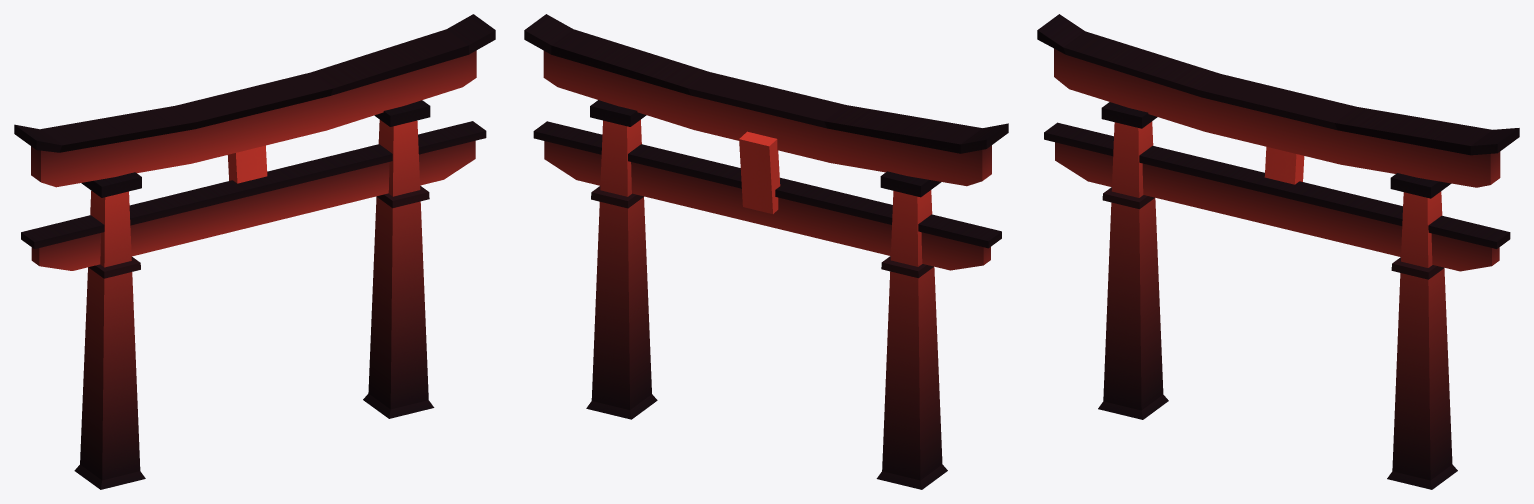
Rendered from Raven_Gate.fbx.
3 renders of one model, left to right at view 1: azimuth 30°, elevation 25°; view 2: azimuth 150°, elevation 25°; view 3: azimuth 330°, elevation 25°, orthographic.
Parts seen in each view (by area): view 1: legs, top, bottom, little; view 2: legs, top, bottom, little; view 3: legs, top, bottom, little.
Part boxes in pixels (<box>): legs: <box>74,100,434,489</box>; top: <box>14,14,495,187</box>; bottom: <box>21,121,486,270</box>; little: <box>227,145,267,183</box>; legs: <box>586,100,947,489</box>; top: <box>524,14,1008,186</box>; bottom: <box>533,121,1001,270</box>; little: <box>739,131,780,213</box>; legs: <box>1098,102,1457,489</box>; top: <box>1037,14,1519,187</box>; bottom: <box>1044,122,1510,271</box>; little: <box>1264,146,1304,184</box>.
Bounding box in the file's own units: 661 × 498 × 66.92.
Materials: 1 (1 with a texture image).
